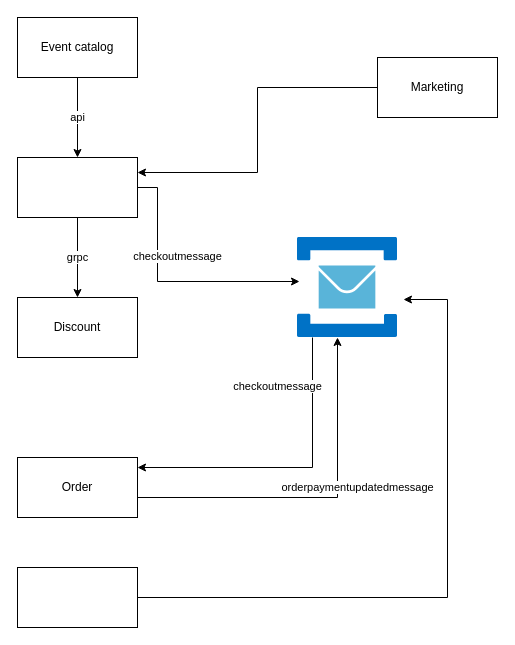
This 515x645 diagram has some shape labels left out. Each missing label, with the centre of its shape:
Payment: the point at 77,597
Shopping Basket: the point at 77,187
